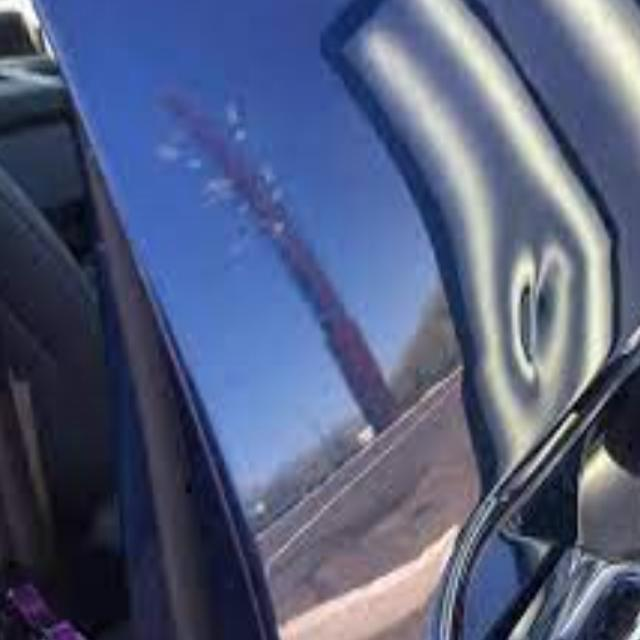dents: (496, 246, 586, 376)
